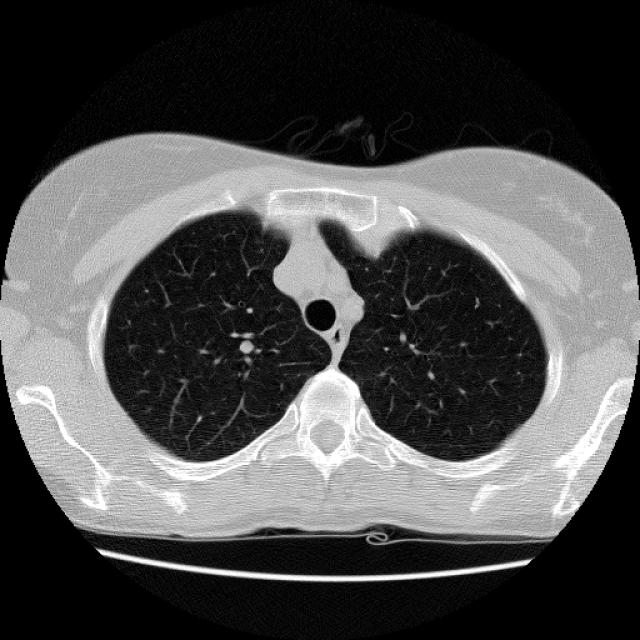nodule: (226, 327, 264, 365)
